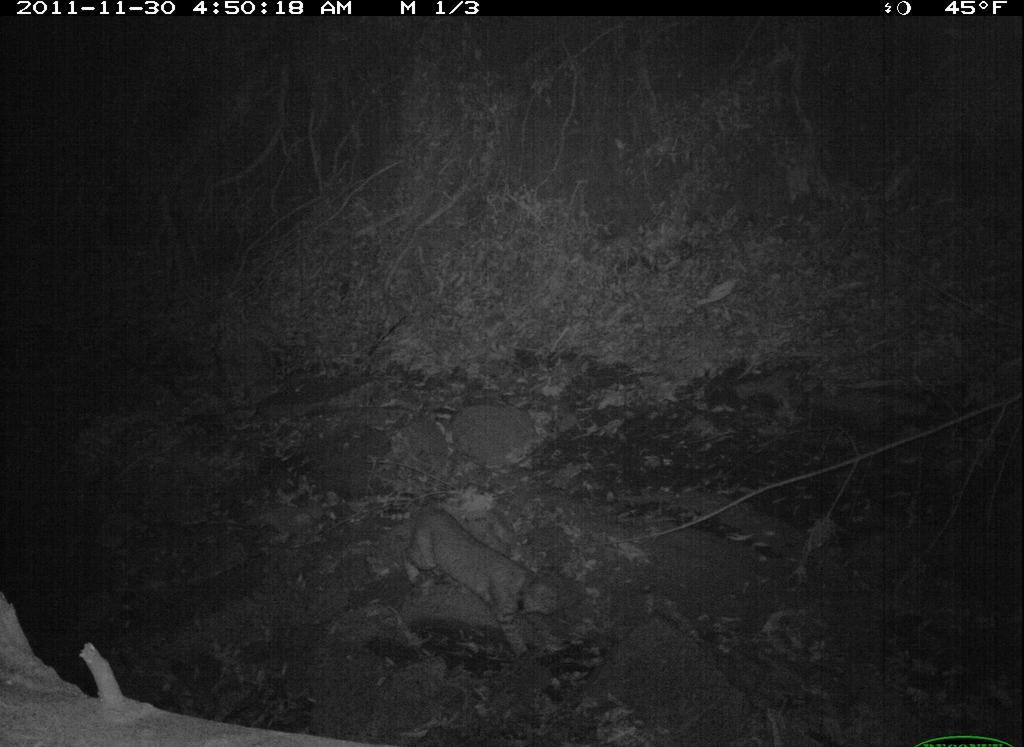bobcat: (401, 498, 570, 666)
